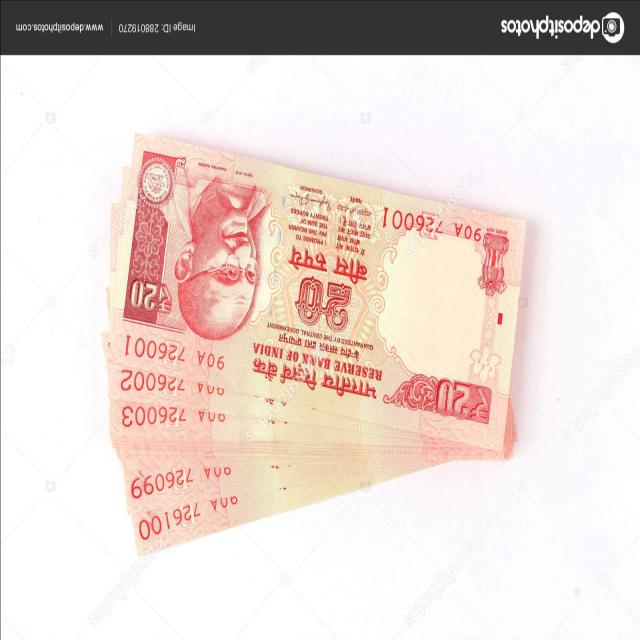20IndianRupees: (111, 130, 530, 456)
